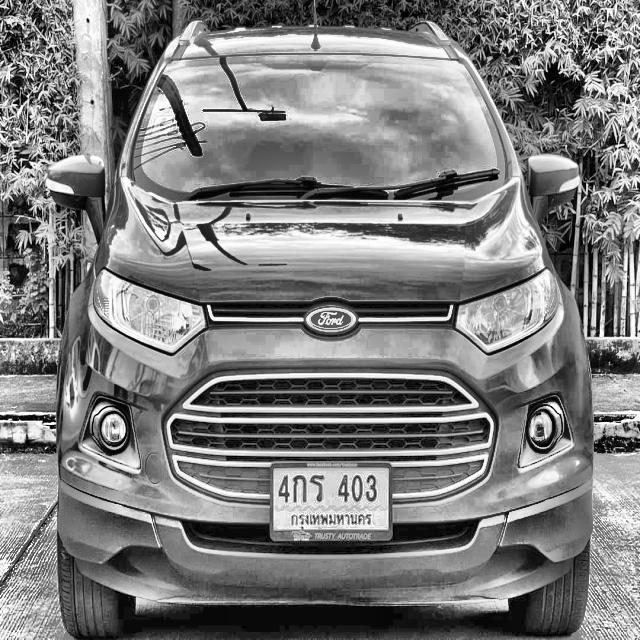license-plate: (265, 459, 394, 547)
